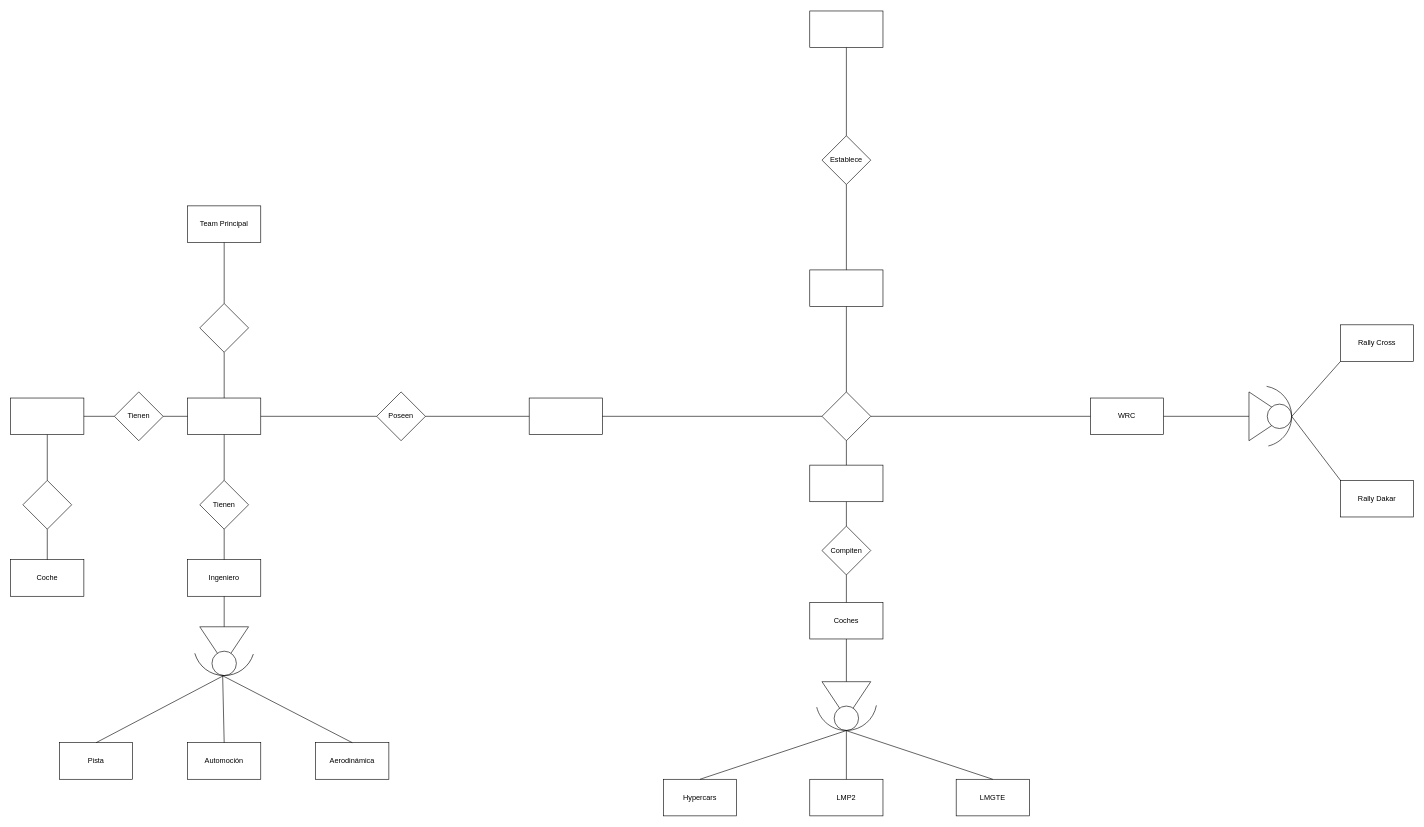
The diagram is 1424 pixels wide and 827 high, and some of its shapes have lost their labels. Here are the shapes that lost their labels. From the top down, the centre of each, then its label:
(x=846, y=29): FIA
(x=846, y=288): Normas
(x=224, y=327): Dirige
(x=47, y=416): Pilotos
(x=224, y=416): Equipos
(x=565, y=416): F1
(x=846, y=416): Regulan
(x=846, y=483): WEC
(x=47, y=504): Pilota
